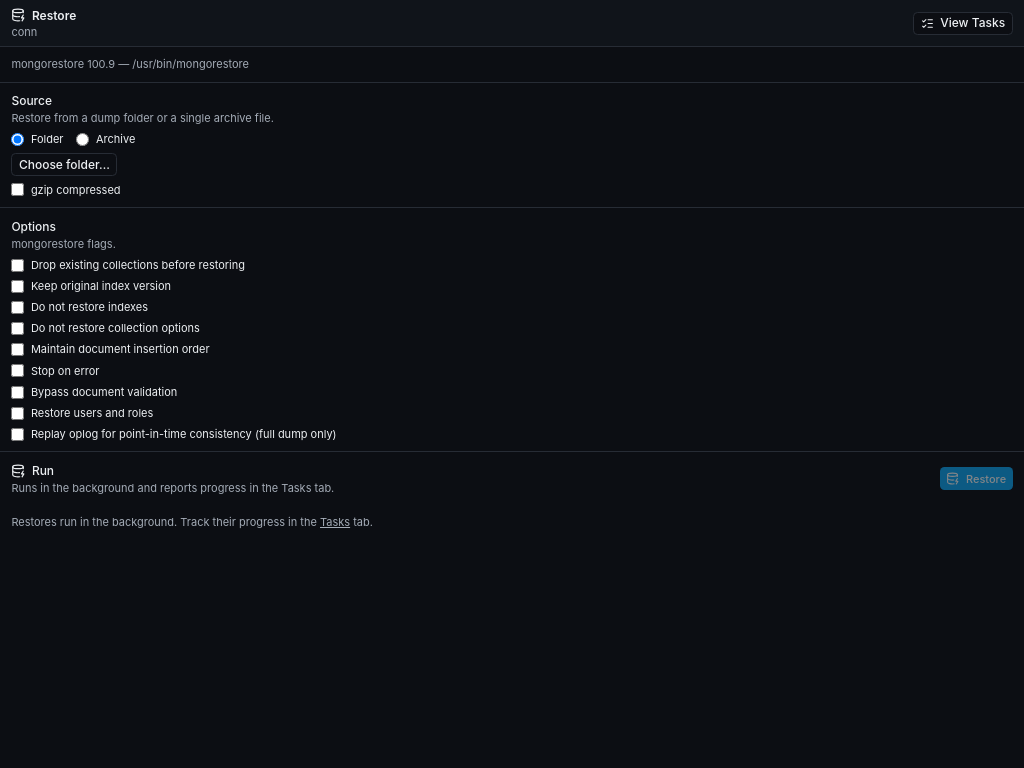
it: RestoreView archive mode › hides the tree and shows filter inputs plus a note
Step 1. Click the radio button with test id "restore-source-archive" → (83, 140), box [76,133,90,146]
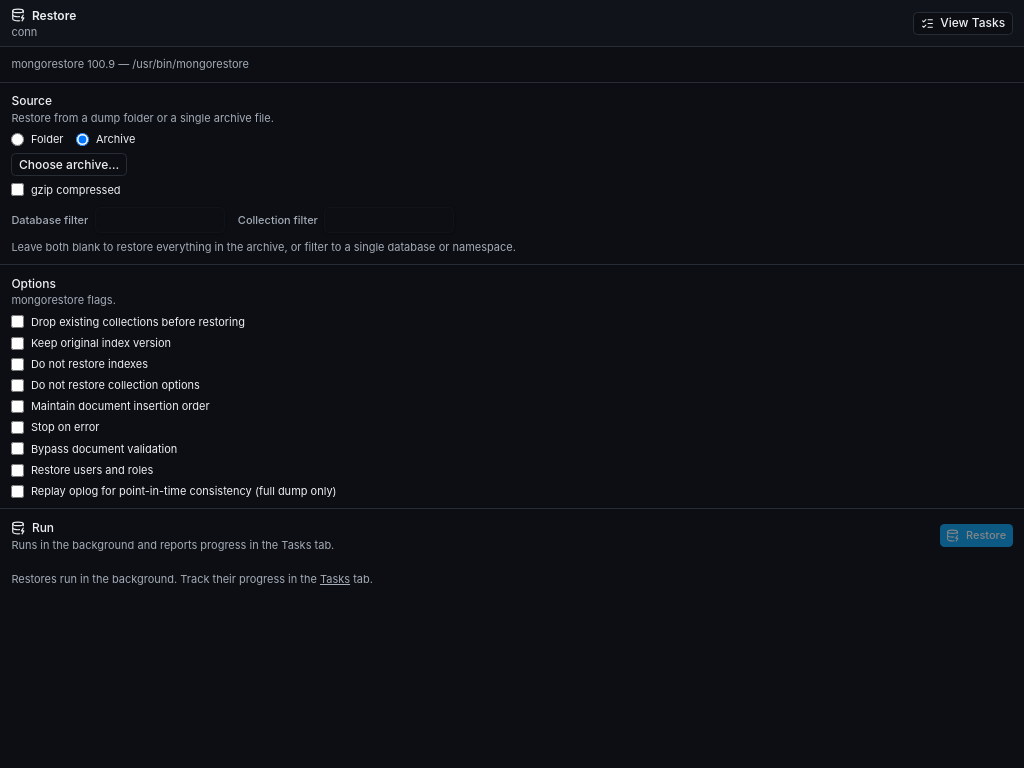
Expected: the text with test id "restore-archive-note" is shown, [11,240,516,254]
